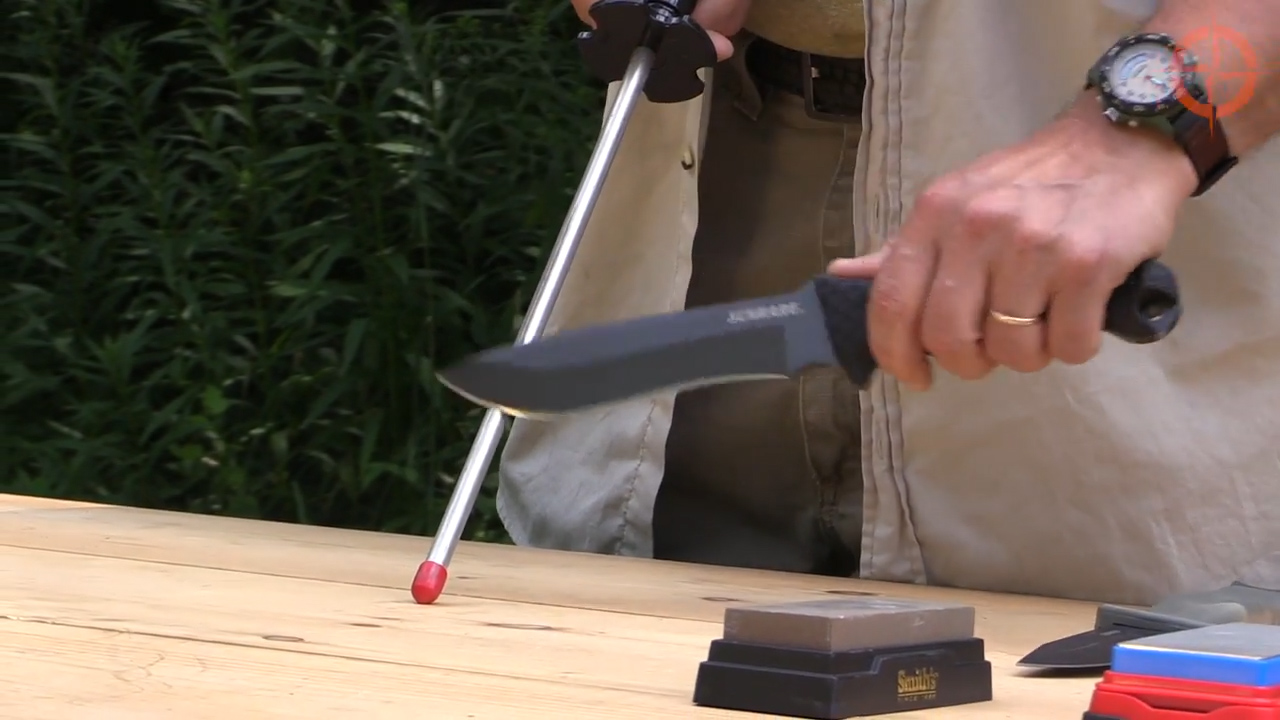knife: (412, 244, 1200, 436)
